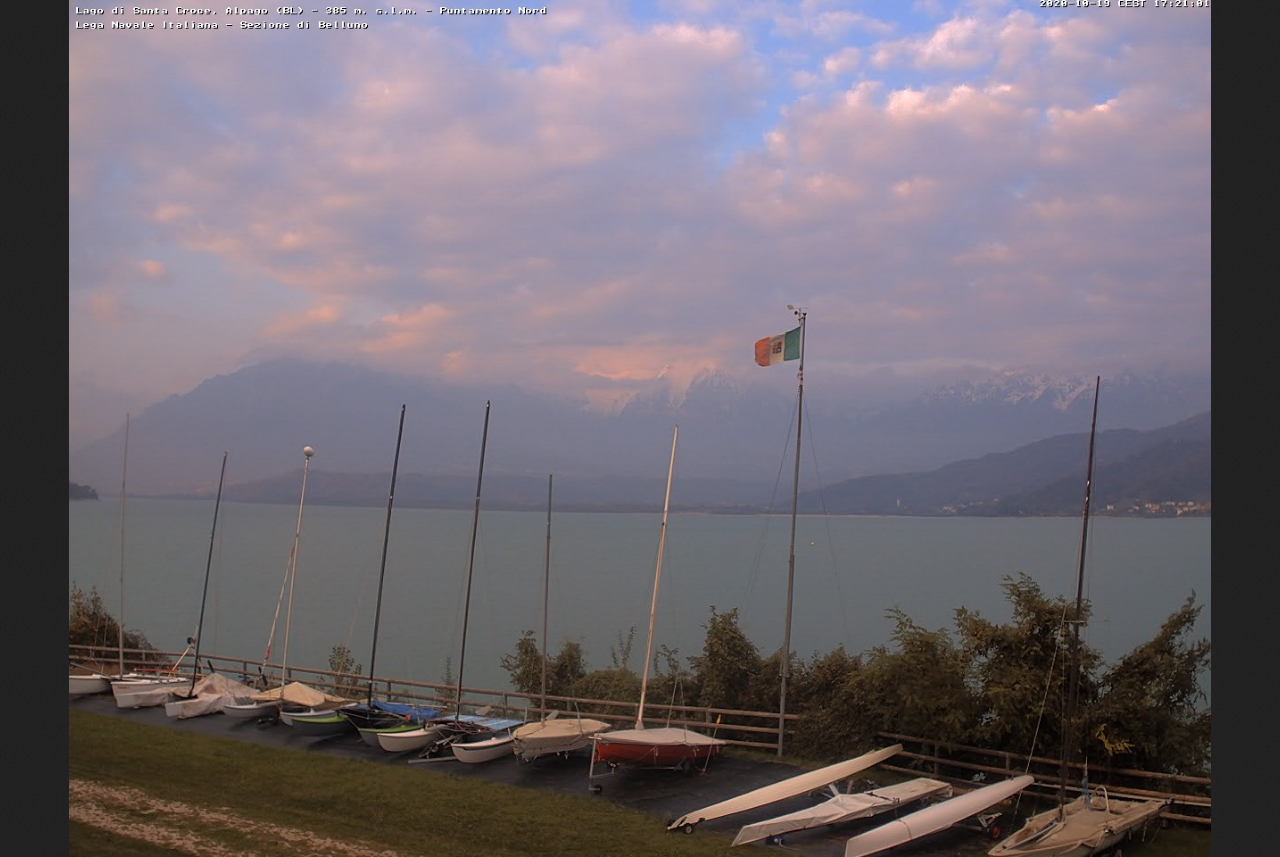yes: (746, 316, 811, 369)
